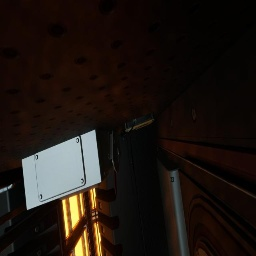EmergencyPhone ,: (120, 112, 154, 140)
SafetySwitchPanel ,: (22, 129, 122, 210)
